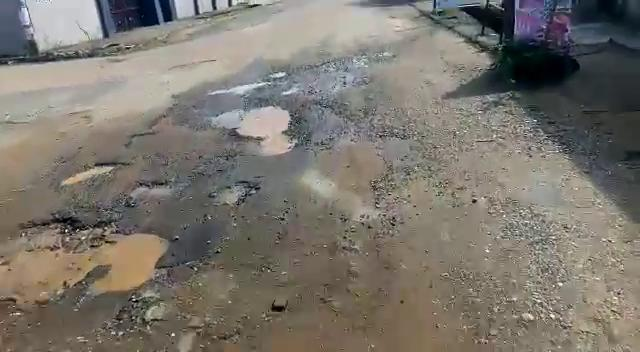pothole: (0, 218, 170, 314), (211, 104, 296, 156), (208, 179, 262, 209), (67, 159, 131, 184)
